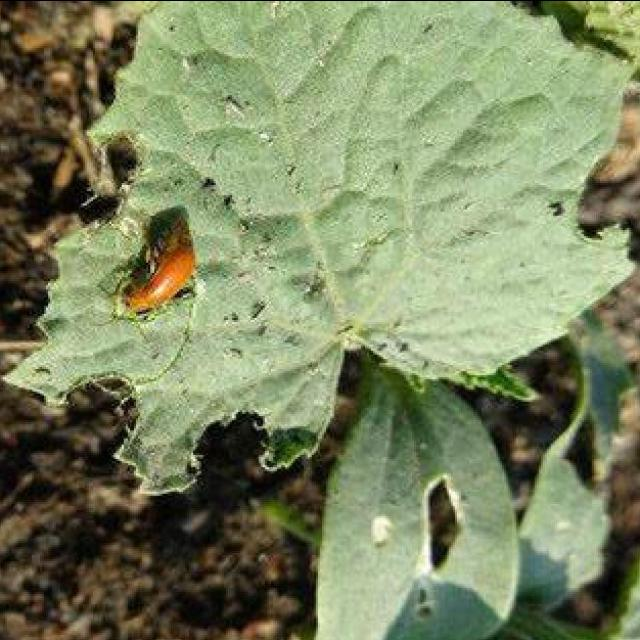Pumpkin Beetle: (105, 193, 203, 398)
